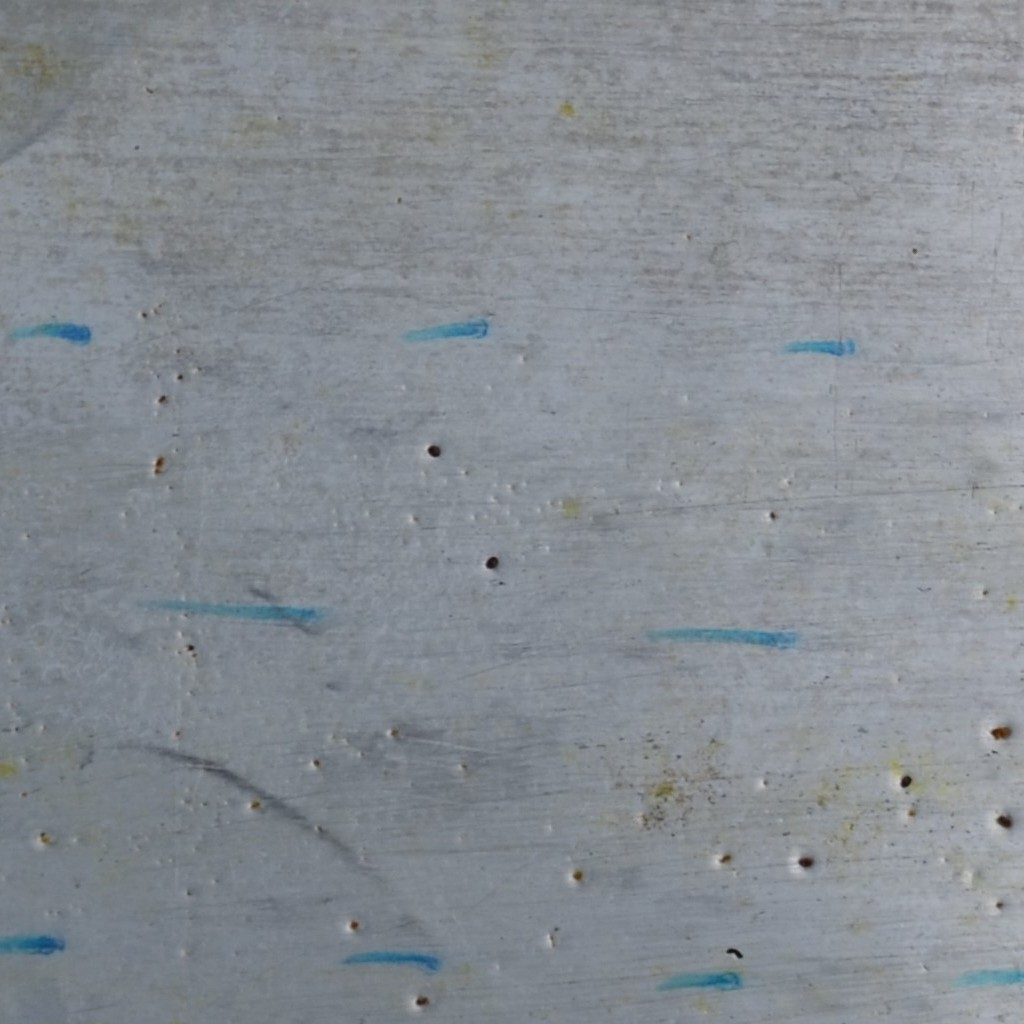varroa: (796, 851, 816, 869), (996, 812, 1014, 832), (898, 768, 913, 790), (484, 551, 499, 570), (426, 441, 442, 457)
